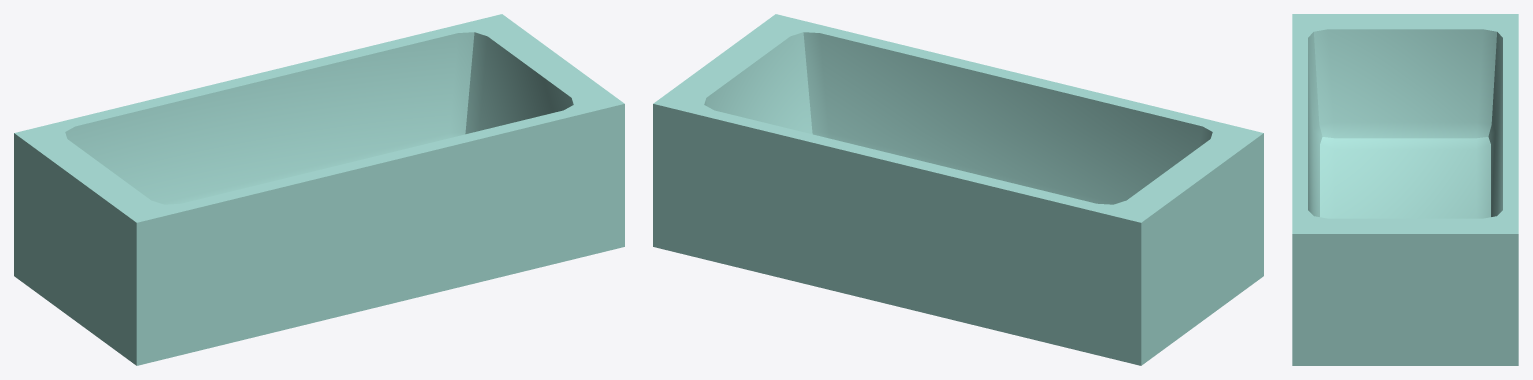
The model's file is bathtub.fbx.
3 views of the same model, side by side, from view 1: azimuth 30°, elevation 25°; view 2: azimuth 150°, elevation 25°; view 3: azimuth 270°, elevation 25° (orthographic). The views are drawn at different scales.
Parts seen in each view (by area): view 1: Bathtub; view 2: Bathtub; view 3: Bathtub.
Part boxes in pixels (x1,y1,x2,y2): Bathtub: [14, 14, 624, 365]; Bathtub: [653, 14, 1263, 365]; Bathtub: [1292, 14, 1518, 365].
Bounding box in the file's own units: 459 × 200 × 129.
